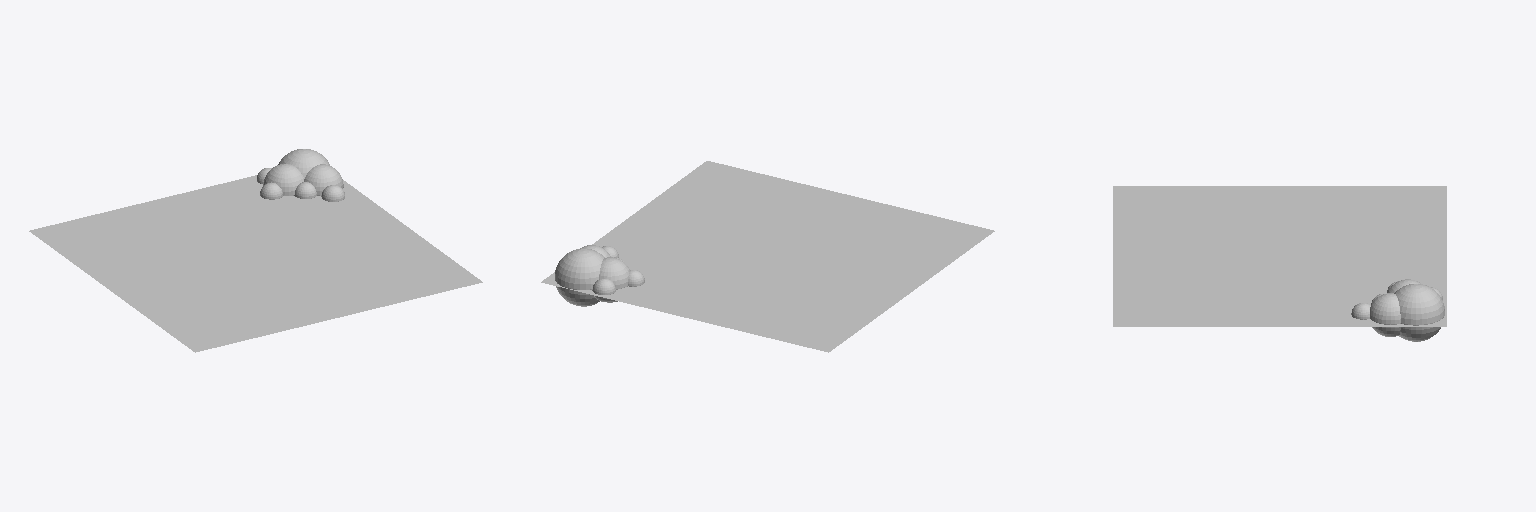
File: ground.obj
3 renders of one model, left to right at view 1: azimuth 30°, elevation 25°; view 2: azimuth 150°, elevation 25°; view 3: azimuth 270°, elevation 25°, orthographic.
Visible parts, largest first — view 1: Plane, Sphere.001, Sphere, Sphere.002; view 2: Plane, Sphere, Sphere.001; view 3: Plane, Sphere, Sphere.002.
Part boxes in pixels (x1,y1,x2,y2): Plane: (29, 175, 482, 352); Sphere.001: (263, 164, 303, 195); Sphere: (278, 149, 329, 178); Sphere.002: (304, 164, 343, 195); Plane: (541, 161, 994, 352); Sphere: (555, 248, 604, 306); Sphere.001: (599, 257, 629, 302); Plane: (1113, 186, 1446, 326); Sphere: (1394, 284, 1444, 341); Sphere.002: (1370, 293, 1400, 336).
Size of the model in its own units: 32.98 by 5.79 by 32.98.